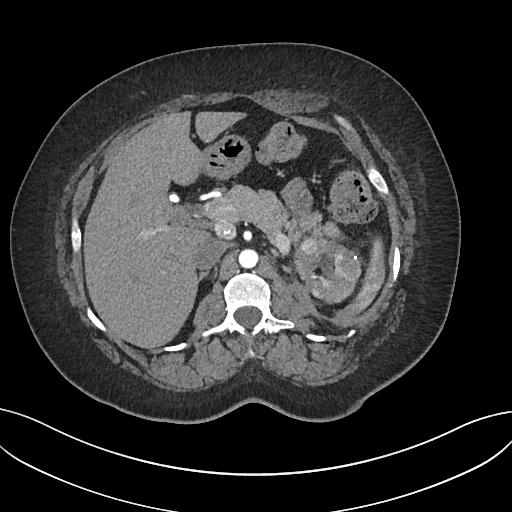Lesion: (300, 235, 319, 256)
